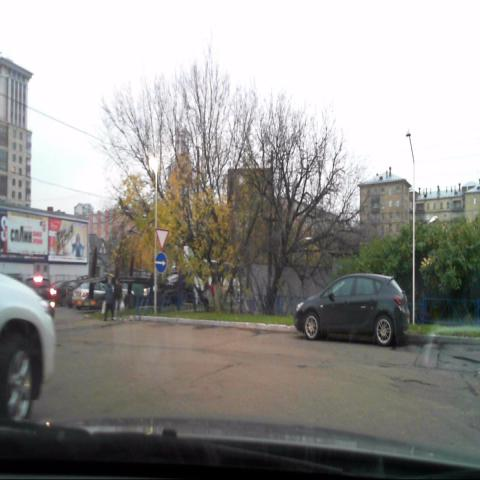4_1_2_1: (155, 253, 166, 273)
